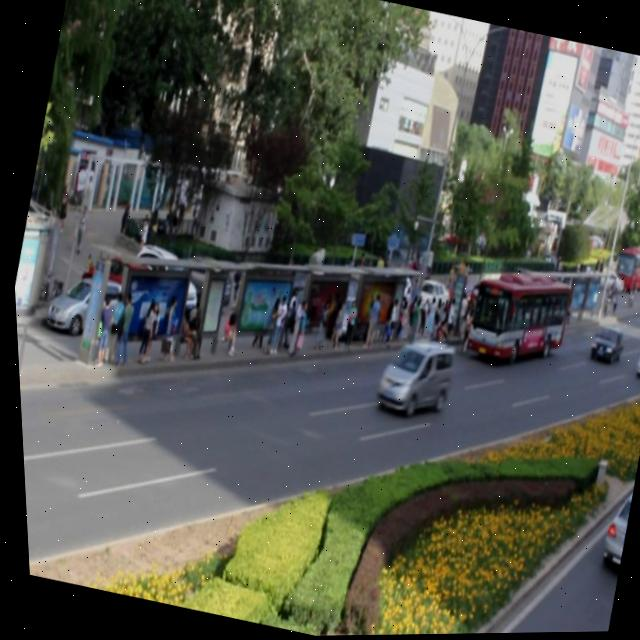car: (583, 322, 622, 367), (627, 336, 640, 380)
truck: (367, 330, 455, 423)
van: (457, 258, 572, 374)
